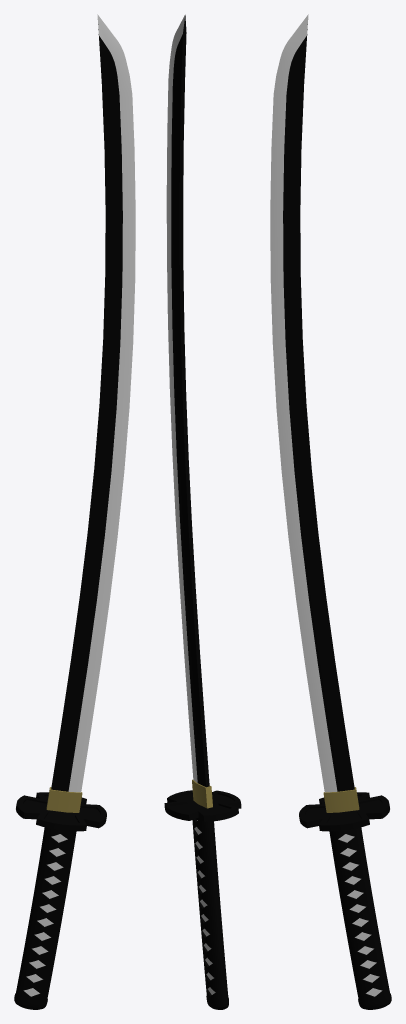
File: katana.fbx
3 renders of one model, left to right at view 1: azimuth 90°, elevation 25°; view 2: azimuth 210°, elevation 25°; view 3: azimuth 270°, elevation 25°, orthographic. The views are drawn at different scales.
Parts seen in each view (by area): view 1: Cube; view 2: Cube; view 3: Cube.
Boxes of the visible parts, x1=… form: Cube: x1=14, y1=14, x2=135, y2=1009; Cube: x1=164, y1=14, x2=241, y2=1009; Cube: x1=270, y1=14, x2=391, y2=1009.
Size of the model in its own units: 8.7 by 129 by 14.28.
